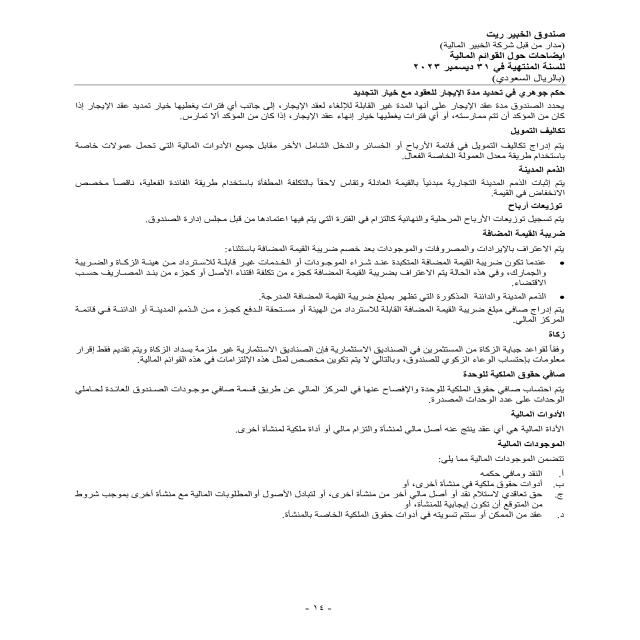notes: (444, 51, 570, 61)
text: (40, 83, 574, 529)
